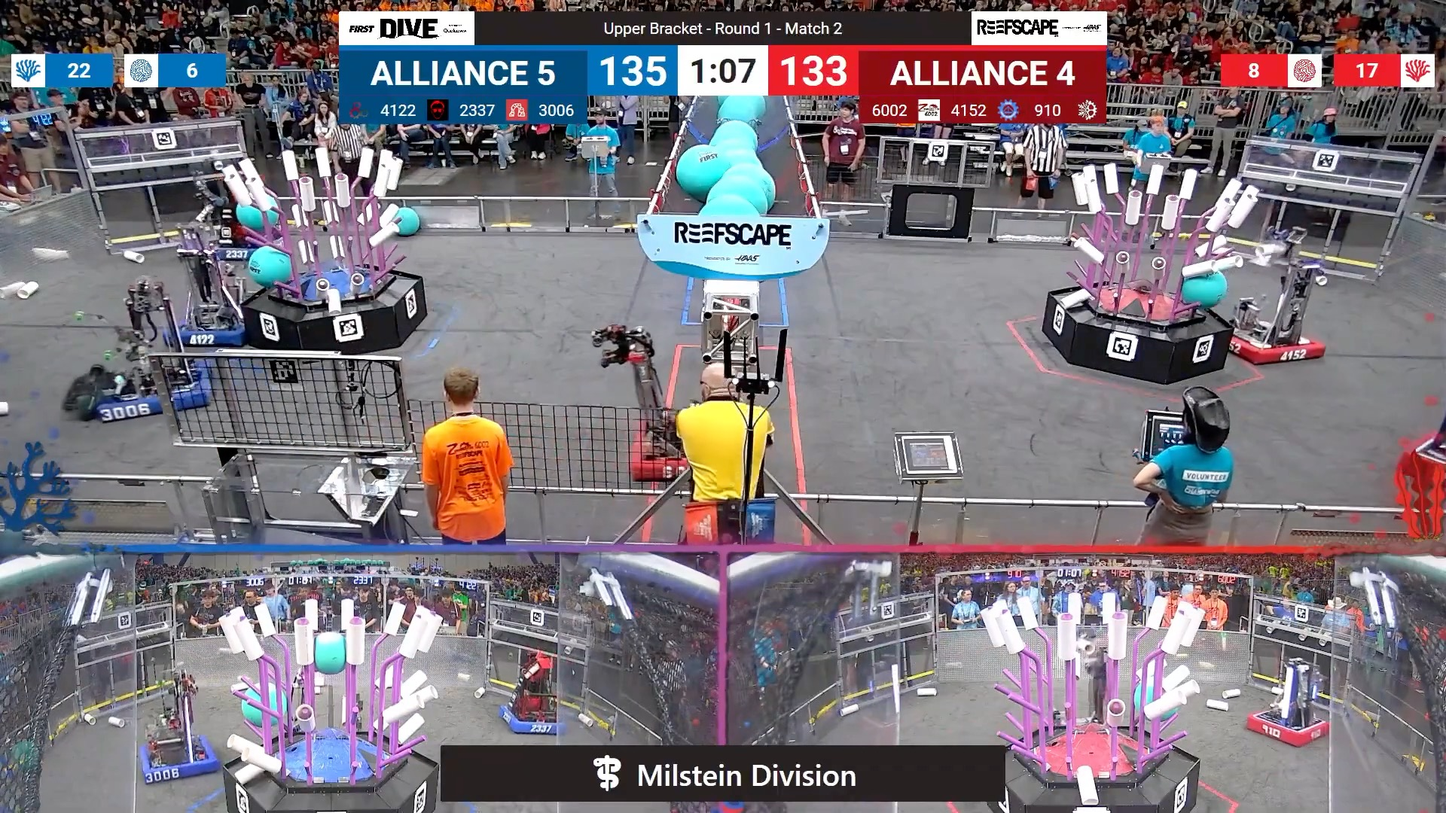bumpers: (64, 353, 223, 426), (1217, 319, 1333, 371), (132, 729, 224, 789), (205, 219, 301, 270), (1238, 706, 1338, 749), (621, 425, 695, 482), (169, 300, 252, 348), (492, 701, 571, 739)
